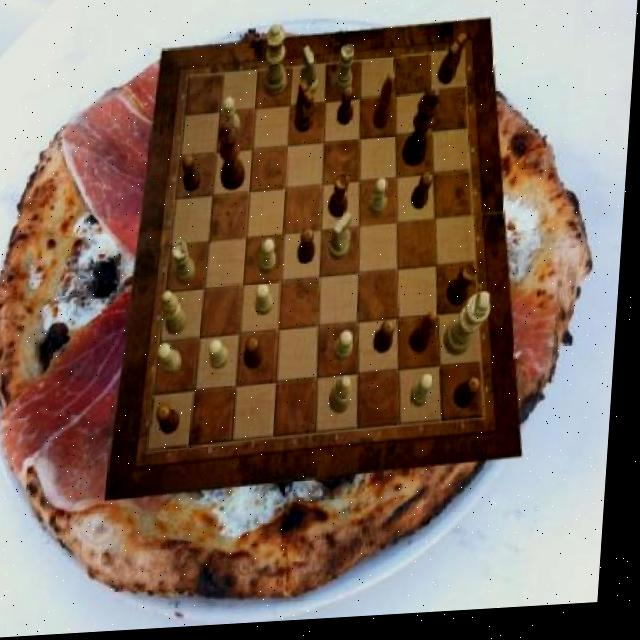bishop: (373, 77, 397, 135), (412, 315, 442, 359)
black-bishop: (404, 93, 442, 172)
black-king: (438, 40, 468, 92), (295, 84, 316, 138)
black-knight: (459, 384, 486, 416), (182, 156, 204, 195), (414, 178, 436, 215), (161, 406, 186, 438), (377, 325, 399, 359), (338, 91, 356, 130), (300, 232, 319, 268), (248, 341, 268, 375)
black-pawn: (216, 124, 250, 194)
black-queen: (451, 268, 482, 311), (330, 175, 351, 222)
black-rook: (163, 292, 192, 338), (333, 381, 358, 420)
white-bishop: (448, 297, 495, 362)
white-king: (331, 217, 354, 265), (301, 50, 321, 103)
white-knight: (222, 99, 243, 140), (161, 344, 186, 378), (415, 379, 439, 414), (370, 183, 389, 222), (212, 342, 234, 374), (338, 334, 359, 366), (262, 242, 281, 277), (259, 286, 278, 319)
white-pawn: (264, 26, 290, 101)
white-queen: (174, 242, 201, 287), (333, 50, 355, 100)
